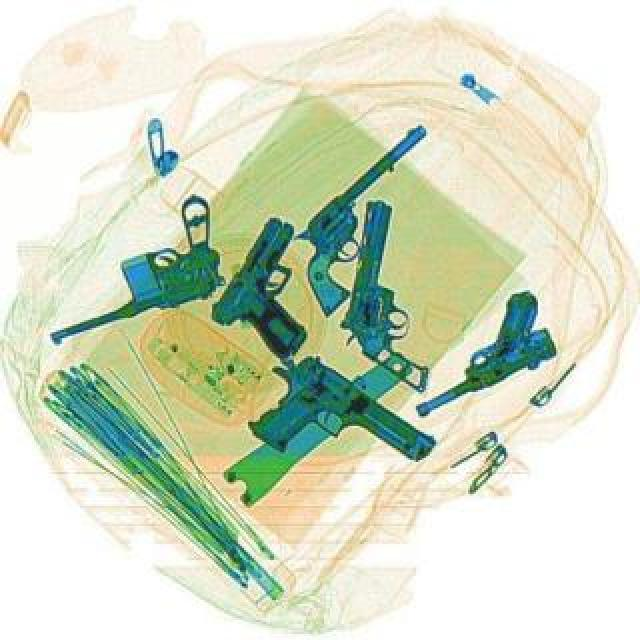gun: (266, 118, 482, 314), (234, 338, 446, 516), (20, 188, 242, 344), (386, 284, 572, 424), (332, 198, 458, 394), (204, 210, 356, 362)
